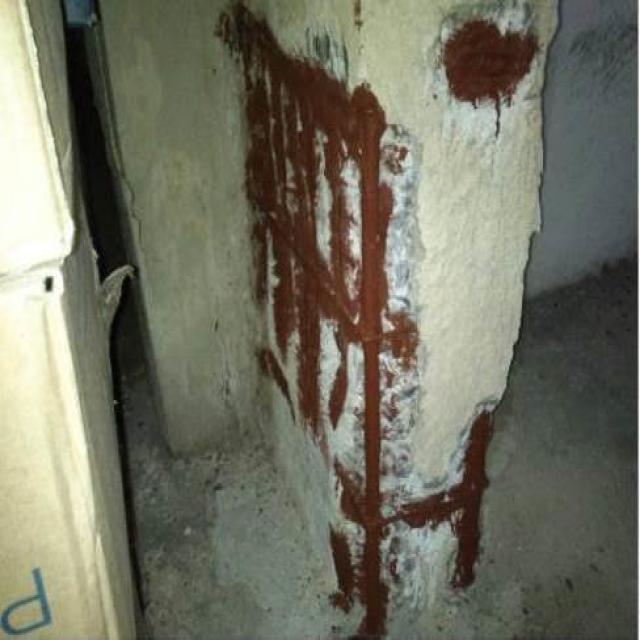Spalling: (236, 1, 541, 639), (425, 2, 560, 140)
corrosion: (242, 8, 373, 156), (254, 193, 359, 342), (359, 112, 390, 615), (446, 20, 539, 103)
